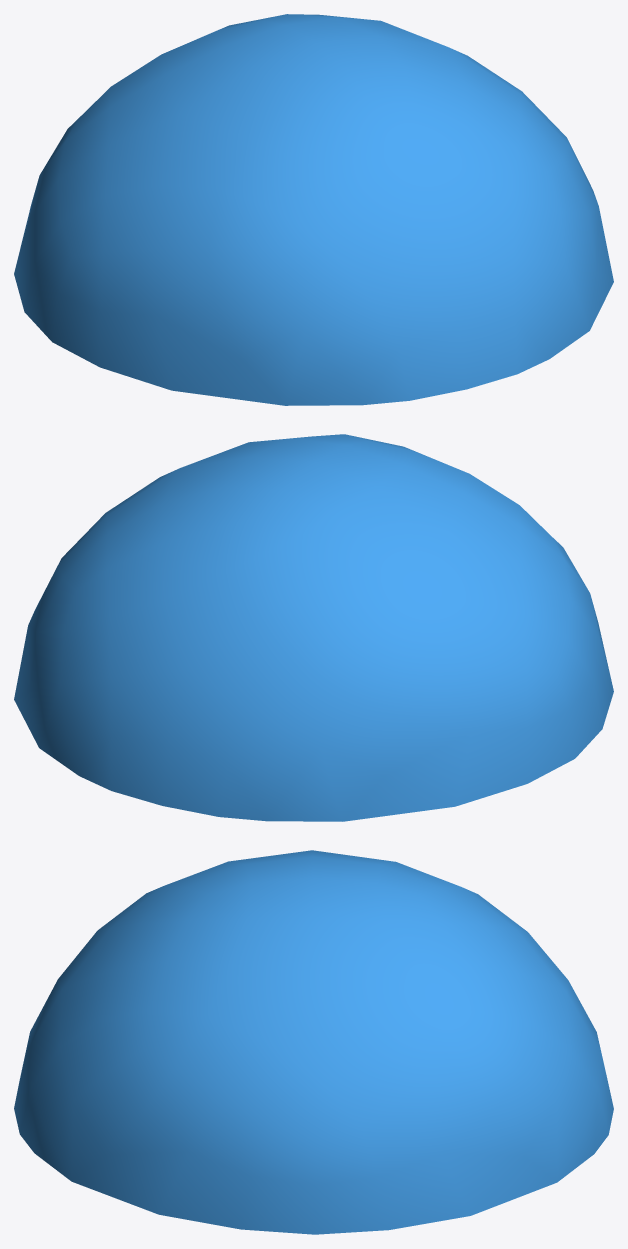
File: Dome.obj
3 renders of one model, top to bottom at view 1: azimuth 30°, elevation 25°; view 2: azimuth 150°, elevation 25°; view 3: azimuth 270°, elevation 25°, orthographic.
Visible parts, largest first — view 1: Dome.001; view 2: Dome.001; view 3: Dome.001.
Part boxes in pixels (bbox=[...]): Dome.001: bbox=[14, 14, 613, 405]; Dome.001: bbox=[14, 434, 613, 821]; Dome.001: bbox=[14, 850, 613, 1234].
Bounding box in the file's own units: 1.6 × 0.6837 × 1.61.
1 material, 1 textured.
